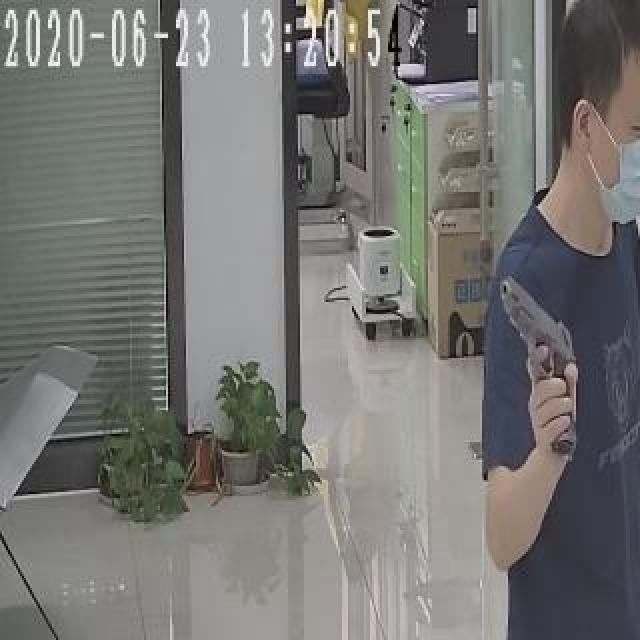Guns: (492, 261, 593, 457)
